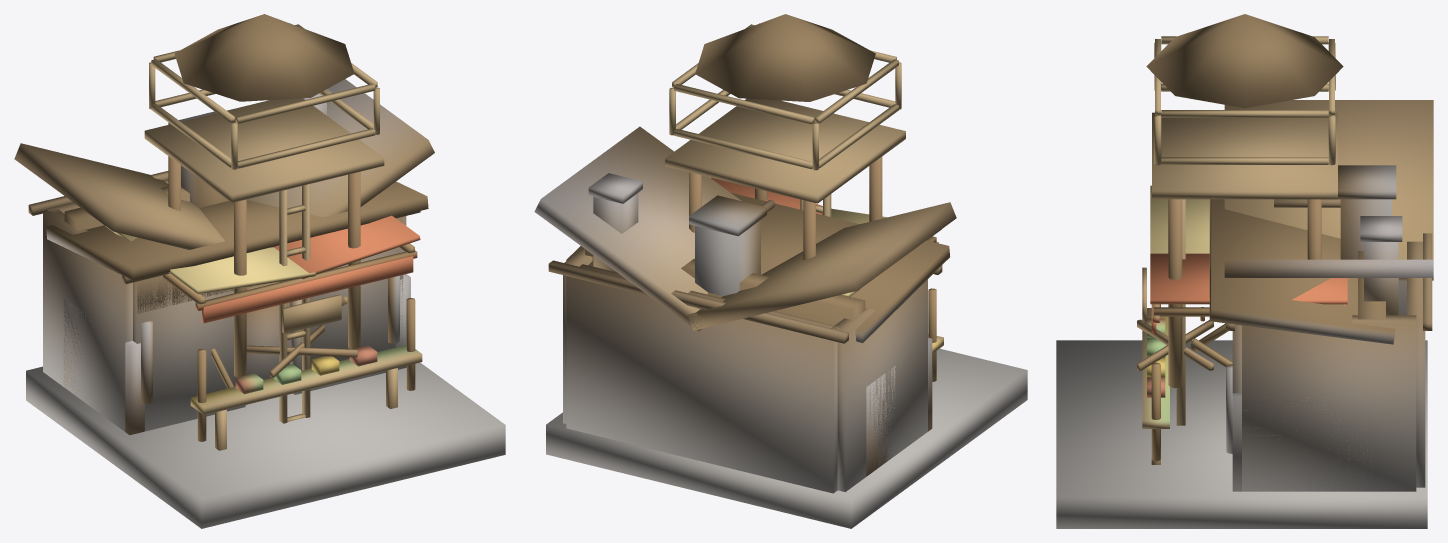
File: buildings.glb
3 renders of one model, left to right at view 1: azimuth 30°, elevation 25°; view 2: azimuth 150°, elevation 25°; view 3: azimuth 270°, elevation 25°, orthographic. The views are drawn at different scales.
Parts seen in each view (by area): view 1: Cottage, Watchtower, MarketStall, BlacksmithForge; view 2: Cottage, Watchtower, BlacksmithForge, MarketStall; view 3: Cottage, Watchtower, BlacksmithForge, MarketStall.
Part boxes in pixels (left/top/right/bottom): Cottage: left=14, top=79, right=505, bottom=528; Watchtower: left=144, top=14, right=384, bottom=423; MarketStall: left=105, top=215, right=422, bottom=450; BlacksmithForge: left=46, top=111, right=428, bottom=435; Cottage: left=534, top=126, right=1027, bottom=528; Watchtower: left=665, top=14, right=905, bottom=259; BlacksmithForge: left=566, top=193, right=949, bottom=476; MarketStall: left=710, top=177, right=943, bottom=381; Cottage: left=1056, top=100, right=1433, bottom=528; Watchtower: left=1137, top=14, right=1343, bottom=425; BlacksmithForge: left=1209, top=165, right=1396, bottom=491; MarketStall: left=1142, top=185, right=1347, bottom=464.
Bounding box in the file's own units: 3.39 × 4.15 × 3.25.
